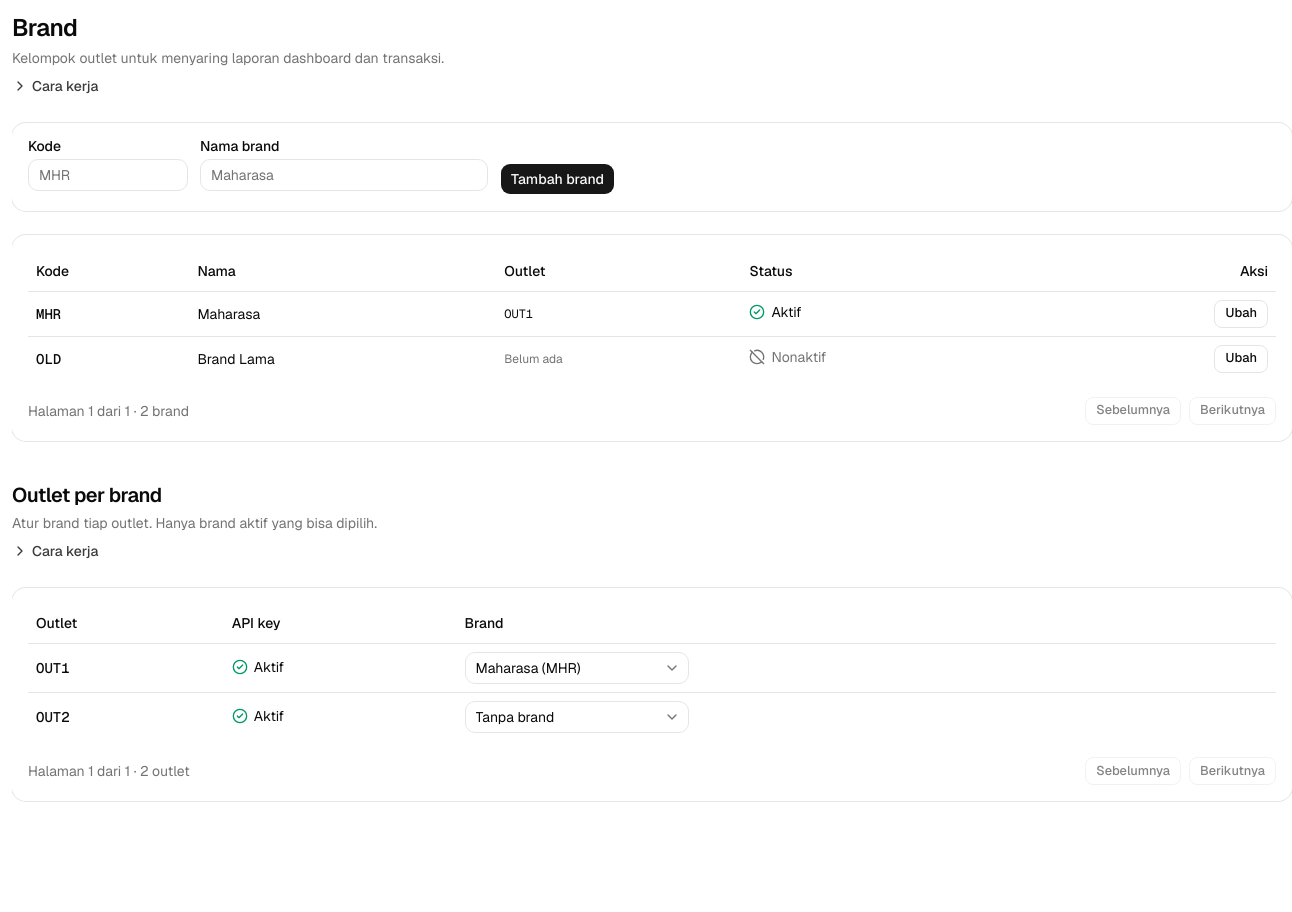
Test: BrandsView — tambah brand › validasi di browser mencegah request kosong
The width and height of the screenshot is (1292, 912).
Click the button "Tambah brand" at {"x": 558, "y": 179}, box x1=500 y1=163 x2=615 y2=195
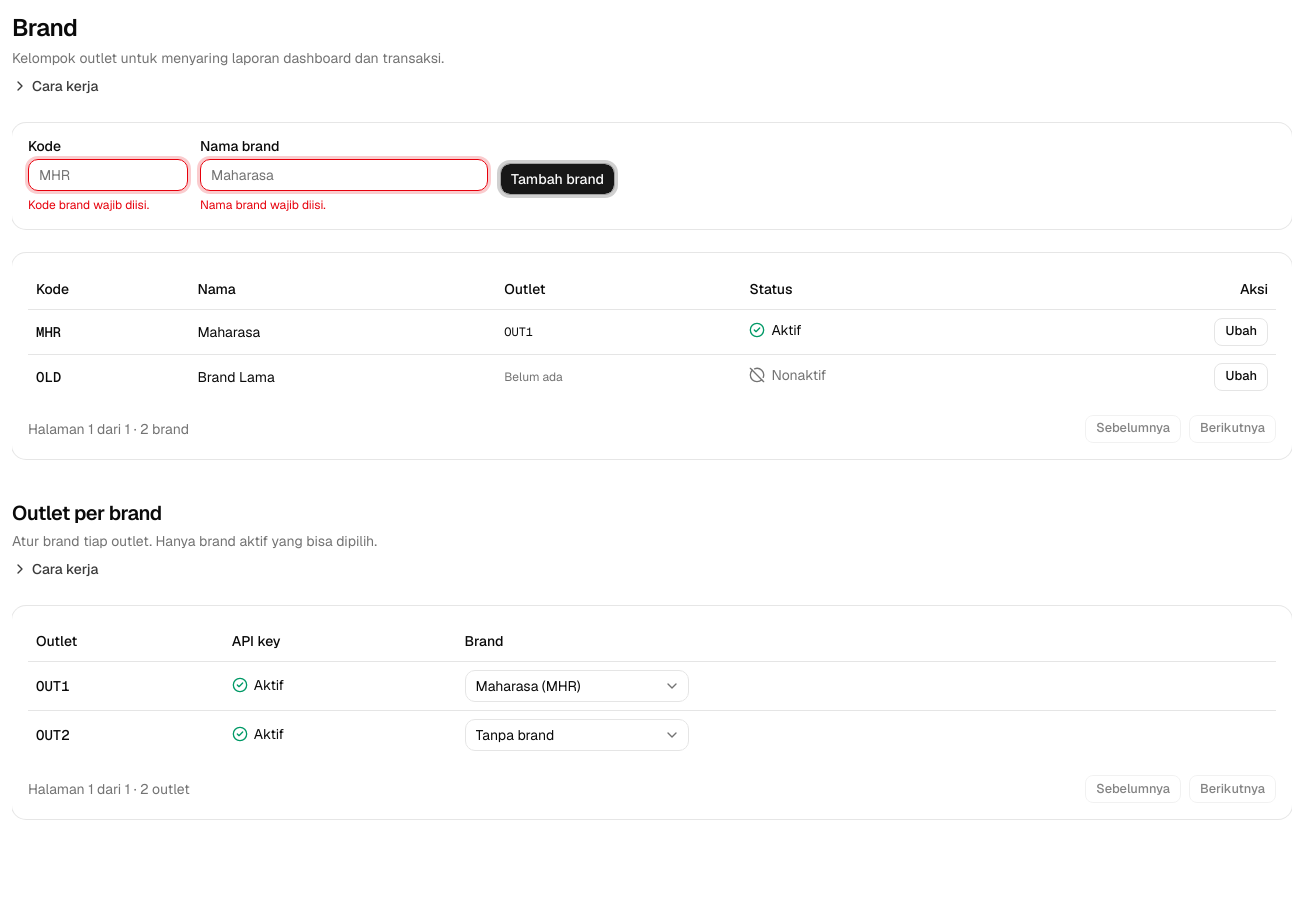
Expected: the text "Kode brand wajib diisi." is shown, x1=28 y1=197 x2=149 y2=213
Expected: the text "Nama brand wajib diisi." is shown, x1=200 y1=197 x2=326 y2=213
